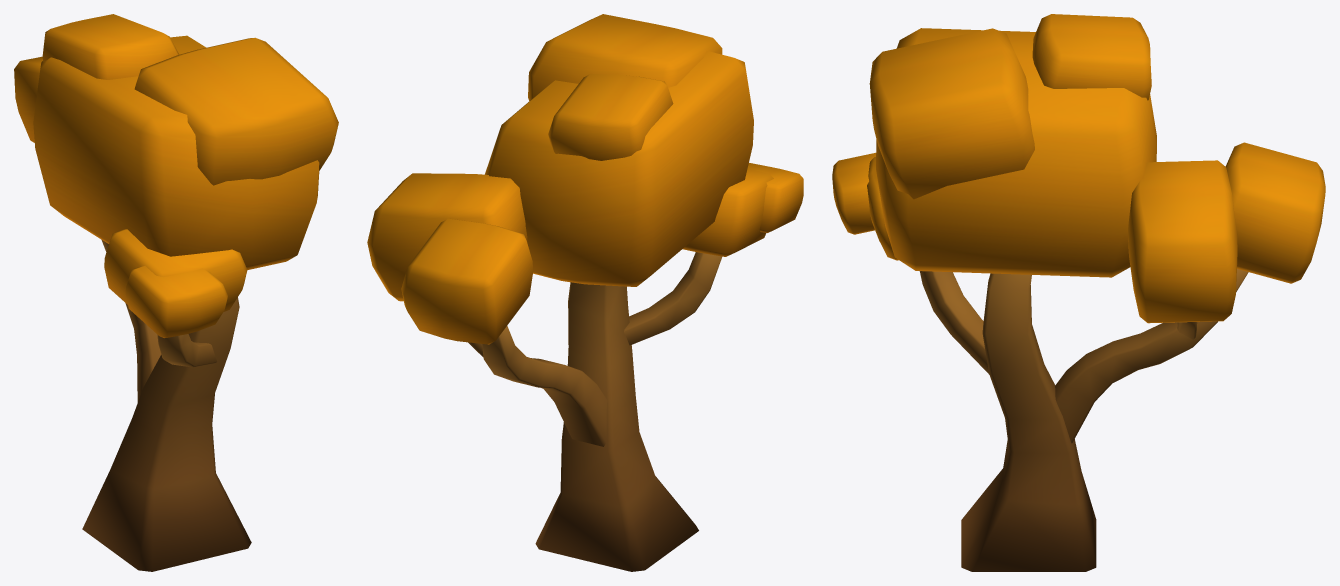
File: Tree_3_3.glb
3 renders of one model, left to right at view 1: azimuth 30°, elevation 25°; view 2: azimuth 150°, elevation 25°; view 3: azimuth 270°, elevation 25°, orthographic. The views are drawn at different scales.
Parts seen in each view (by area): view 1: Tree_3_3; view 2: Tree_3_3; view 3: Tree_3_3.
Boxes of the visible parts, x1=… form: Tree_3_3: x1=14, y1=14, x2=338, y2=571; Tree_3_3: x1=367, y1=14, x2=803, y2=571; Tree_3_3: x1=832, y1=14, x2=1325, y2=571.
Bounding box in the file's own units: 2.41 × 4.13 × 3.68.
Materials: 1 (1 with a texture image).
